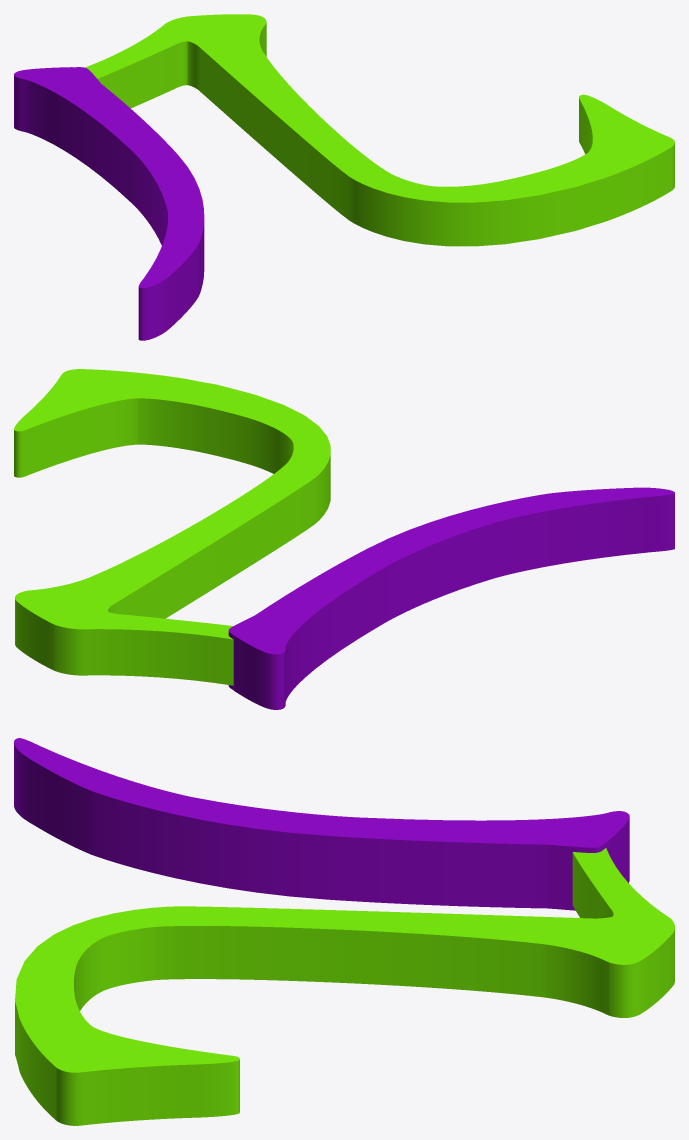
The model's file is hanzi53.fbx.
3 renders of one model, top to bottom at view 1: azimuth 30°, elevation 25°; view 2: azimuth 150°, elevation 25°; view 3: azimuth 270°, elevation 25°, orthographic. The views are drawn at different scales.
Visible parts, largest first — view 1: Curve.001, Curve; view 2: Curve.001, Curve; view 3: Curve.001, Curve.
Boxes of the visible parts, x1,y1,x2,y2 form: Curve.001: (85,14,674,246); Curve: (14,67,204,340); Curve.001: (14,369,330,685); Curve: (228,487,674,709); Curve.001: (15,848,674,1125); Curve: (14,738,629,910).
Bounding box in the file's own units: 24.41 × 20.7 × 2.2.
